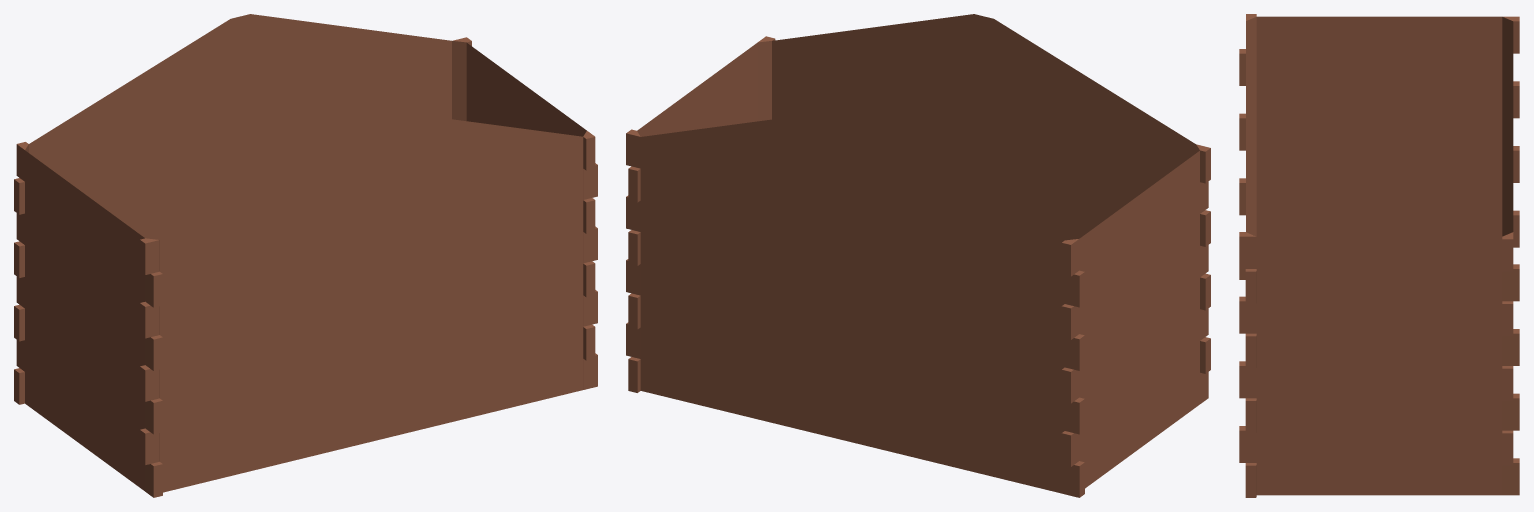
File: LightWoodBuildingLargeShell1.fbx
3 renders of one model, left to right at view 1: azimuth 30°, elevation 25°; view 2: azimuth 150°, elevation 25°; view 3: azimuth 270°, elevation 25°, orthographic. The views are drawn at different scales.
Parts seen in each view (by area): view 1: LightWoodBuildingLargeShell1; view 2: LightWoodBuildingLargeShell1; view 3: LightWoodBuildingLargeShell1.
Part boxes in pixels (bbox=[...]): LightWoodBuildingLargeShell1: bbox=[14, 14, 597, 497]; LightWoodBuildingLargeShell1: bbox=[626, 14, 1210, 497]; LightWoodBuildingLargeShell1: bbox=[1239, 14, 1519, 497].
Size of the model in its own units: 839 by 583 by 441.
